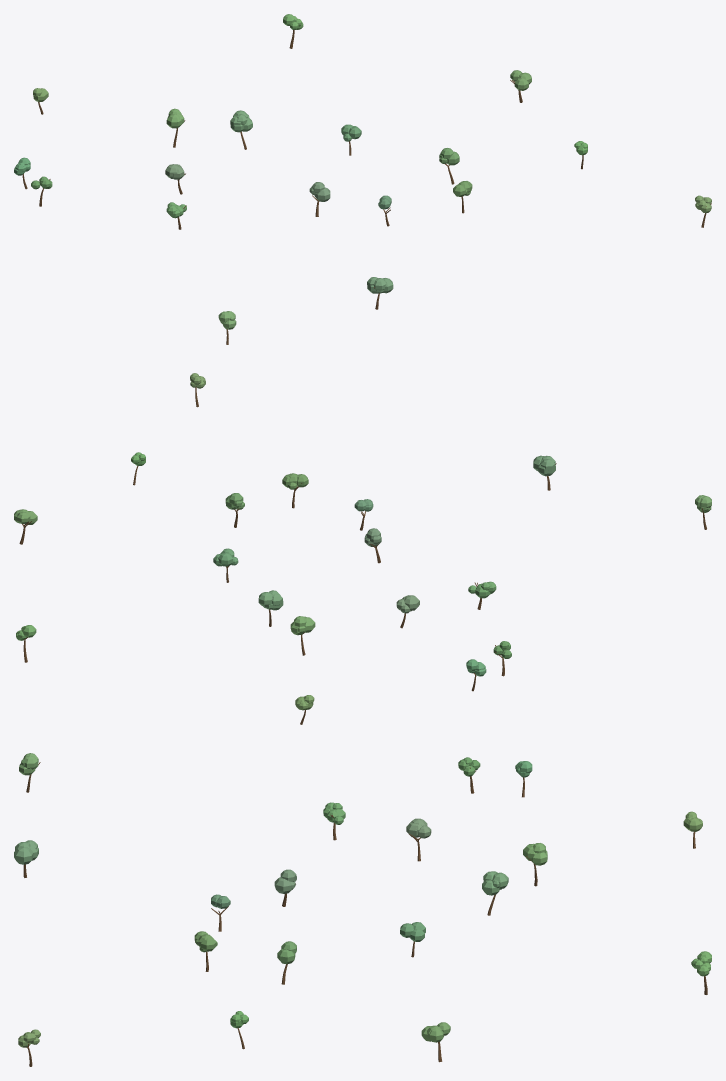
File: oakTrees.glb
The picture shows the model from 3 angles, top to bottom: view 1: azimuth 30°, elevation 25°; view 2: azimuth 150°, elevation 25°; view 3: azimuth 270°, elevation 25°; orthographic projection. The views are drawn at different scales.
Visible parts, largest first — view 1: no part large enough to name; view 2: no part large enough to name; view 3: oak_02, oak_cluster_11_0, oak_cluster_07_2, oak_cluster_01_1.
Part boxes in pixels (left/top/right/bottom): oak_02: left=482, top=871, right=508, bottom=915; oak_cluster_11_0: left=14, top=840, right=38, bottom=877; oak_cluster_07_2: left=523, top=843, right=547, bottom=886; oak_cluster_01_1: left=421, top=1022, right=450, bottom=1062.
Size of the model in its own units: 96.78 by 6.95 by 101.
